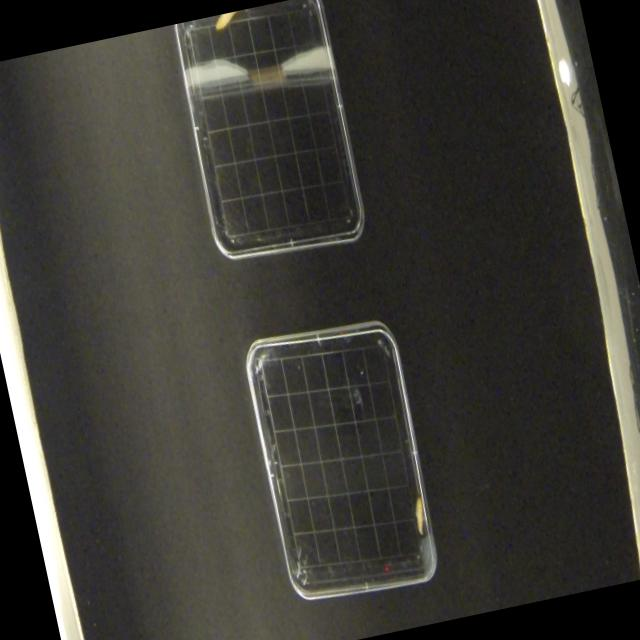larva: (408, 488, 432, 538), (210, 8, 248, 32)
